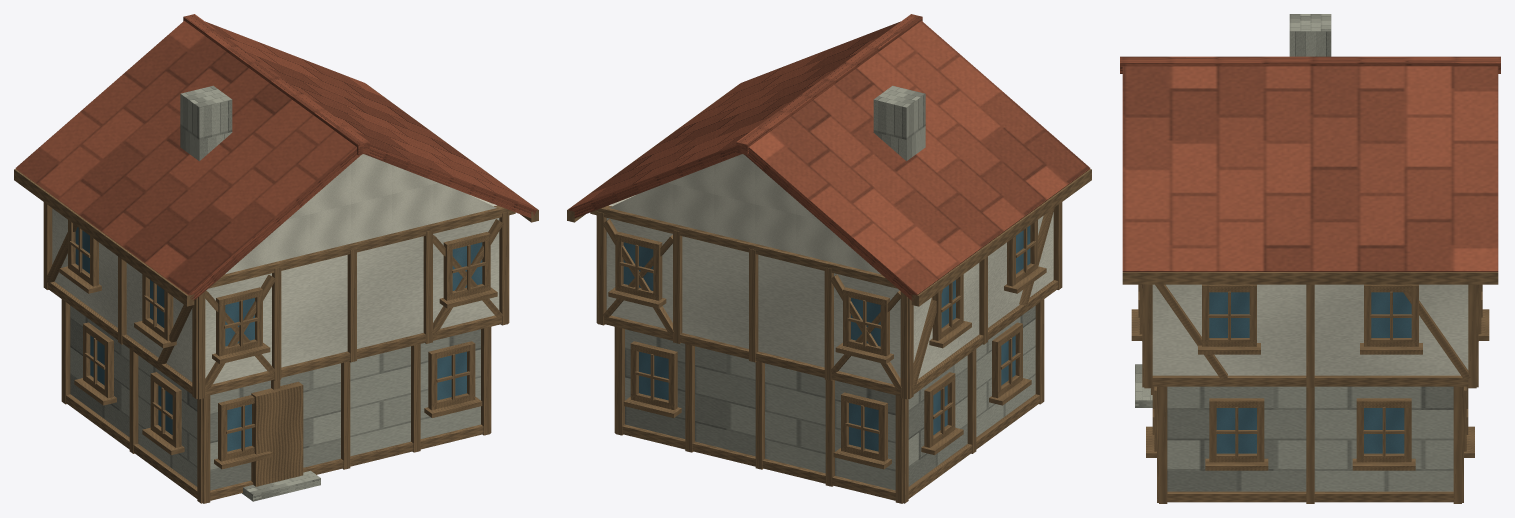
The picture shows the model from 3 angles, left to right: view 1: azimuth 30°, elevation 25°; view 2: azimuth 150°, elevation 25°; view 3: azimuth 270°, elevation 25°; orthographic projection. The views are drawn at different scales.
Parts seen in each view (by area): view 1: house-roof, house-wood, house-plaster, house-stone, house-glass; view 2: house-roof, house-wood, house-plaster, house-stone, house-glass; view 3: house-roof, house-wood, house-stone, house-plaster, house-glass.
Boxes of the visible parts, box(x1,y1,x2,y2) form: house-roof: box(15, 14, 537, 300); house-wood: box(14, 84, 538, 503); house-plaster: box(52, 154, 499, 383); house-stone: box(70, 85, 480, 501); house-glass: box(75, 227, 482, 451); house-roof: box(568, 14, 1090, 301); house-wood: box(567, 84, 1091, 503); house-plaster: box(606, 154, 1053, 383); house-stone: box(625, 85, 1035, 490); house-glass: box(623, 225, 1030, 451); house-roof: box(1120, 56, 1500, 271); house-wood: box(1122, 272, 1498, 503); house-stone: box(1135, 14, 1453, 491); house-plaster: box(1152, 284, 1468, 375); house-glass: box(1209, 292, 1411, 453).
Size of the model in its own units: 8.54 by 7.83 by 7.36.
Materials: 5 (5 with a texture image).
